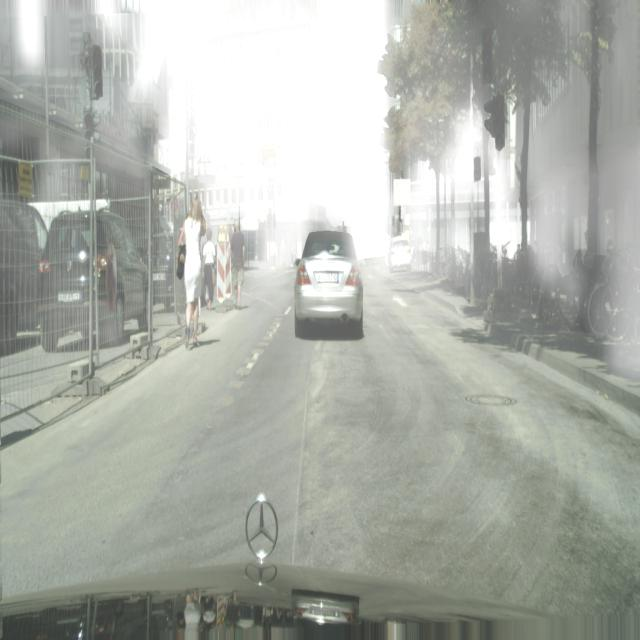car: (600, 251, 640, 343), (586, 250, 620, 338)
person: (178, 192, 204, 351), (229, 221, 246, 309), (202, 228, 216, 311)
truck: (38, 203, 149, 353), (294, 229, 365, 339), (0, 197, 48, 351), (388, 236, 412, 272)
